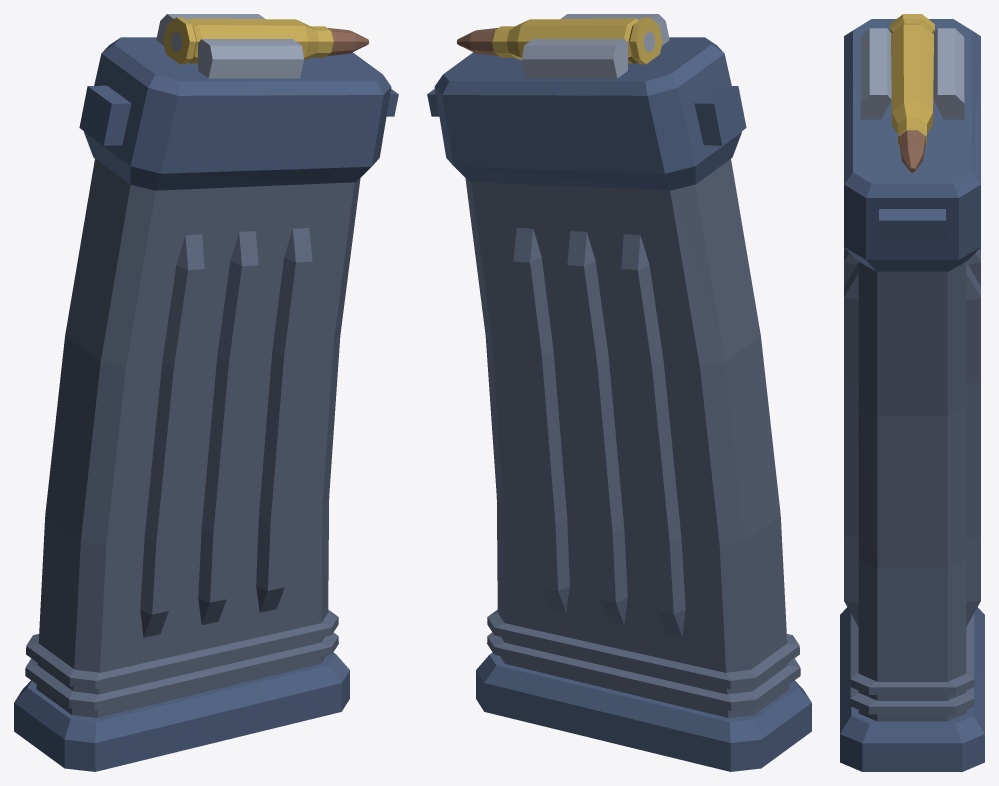
Rendered from ammo-magazine-c837df.glb.
3 views of the same model, side by side, from view 1: azimuth 30°, elevation 25°; view 2: azimuth 150°, elevation 25°; view 3: azimuth 270°, elevation 25° (orthographic).
Parts seen in each view (by area): view 1: magazine-matte, magazine-metal; view 2: magazine-matte, magazine-metal; view 3: magazine-matte, magazine-metal.
Boxes of the visible parts, left/top/right/bottom form: magazine-matte: left=25, top=159, right=360, bottom=717; magazine-metal: left=14, top=14, right=398, bottom=771; magazine-matte: left=465, top=159, right=800, bottom=717; magazine-metal: left=427, top=14, right=811, bottom=771; magazine-matte: left=844, top=247, right=980, bottom=721; magazine-metal: left=840, top=14, right=984, bottom=771.
Bounding box in the file's own units: 0.1057 × 0.2048 × 0.039.
